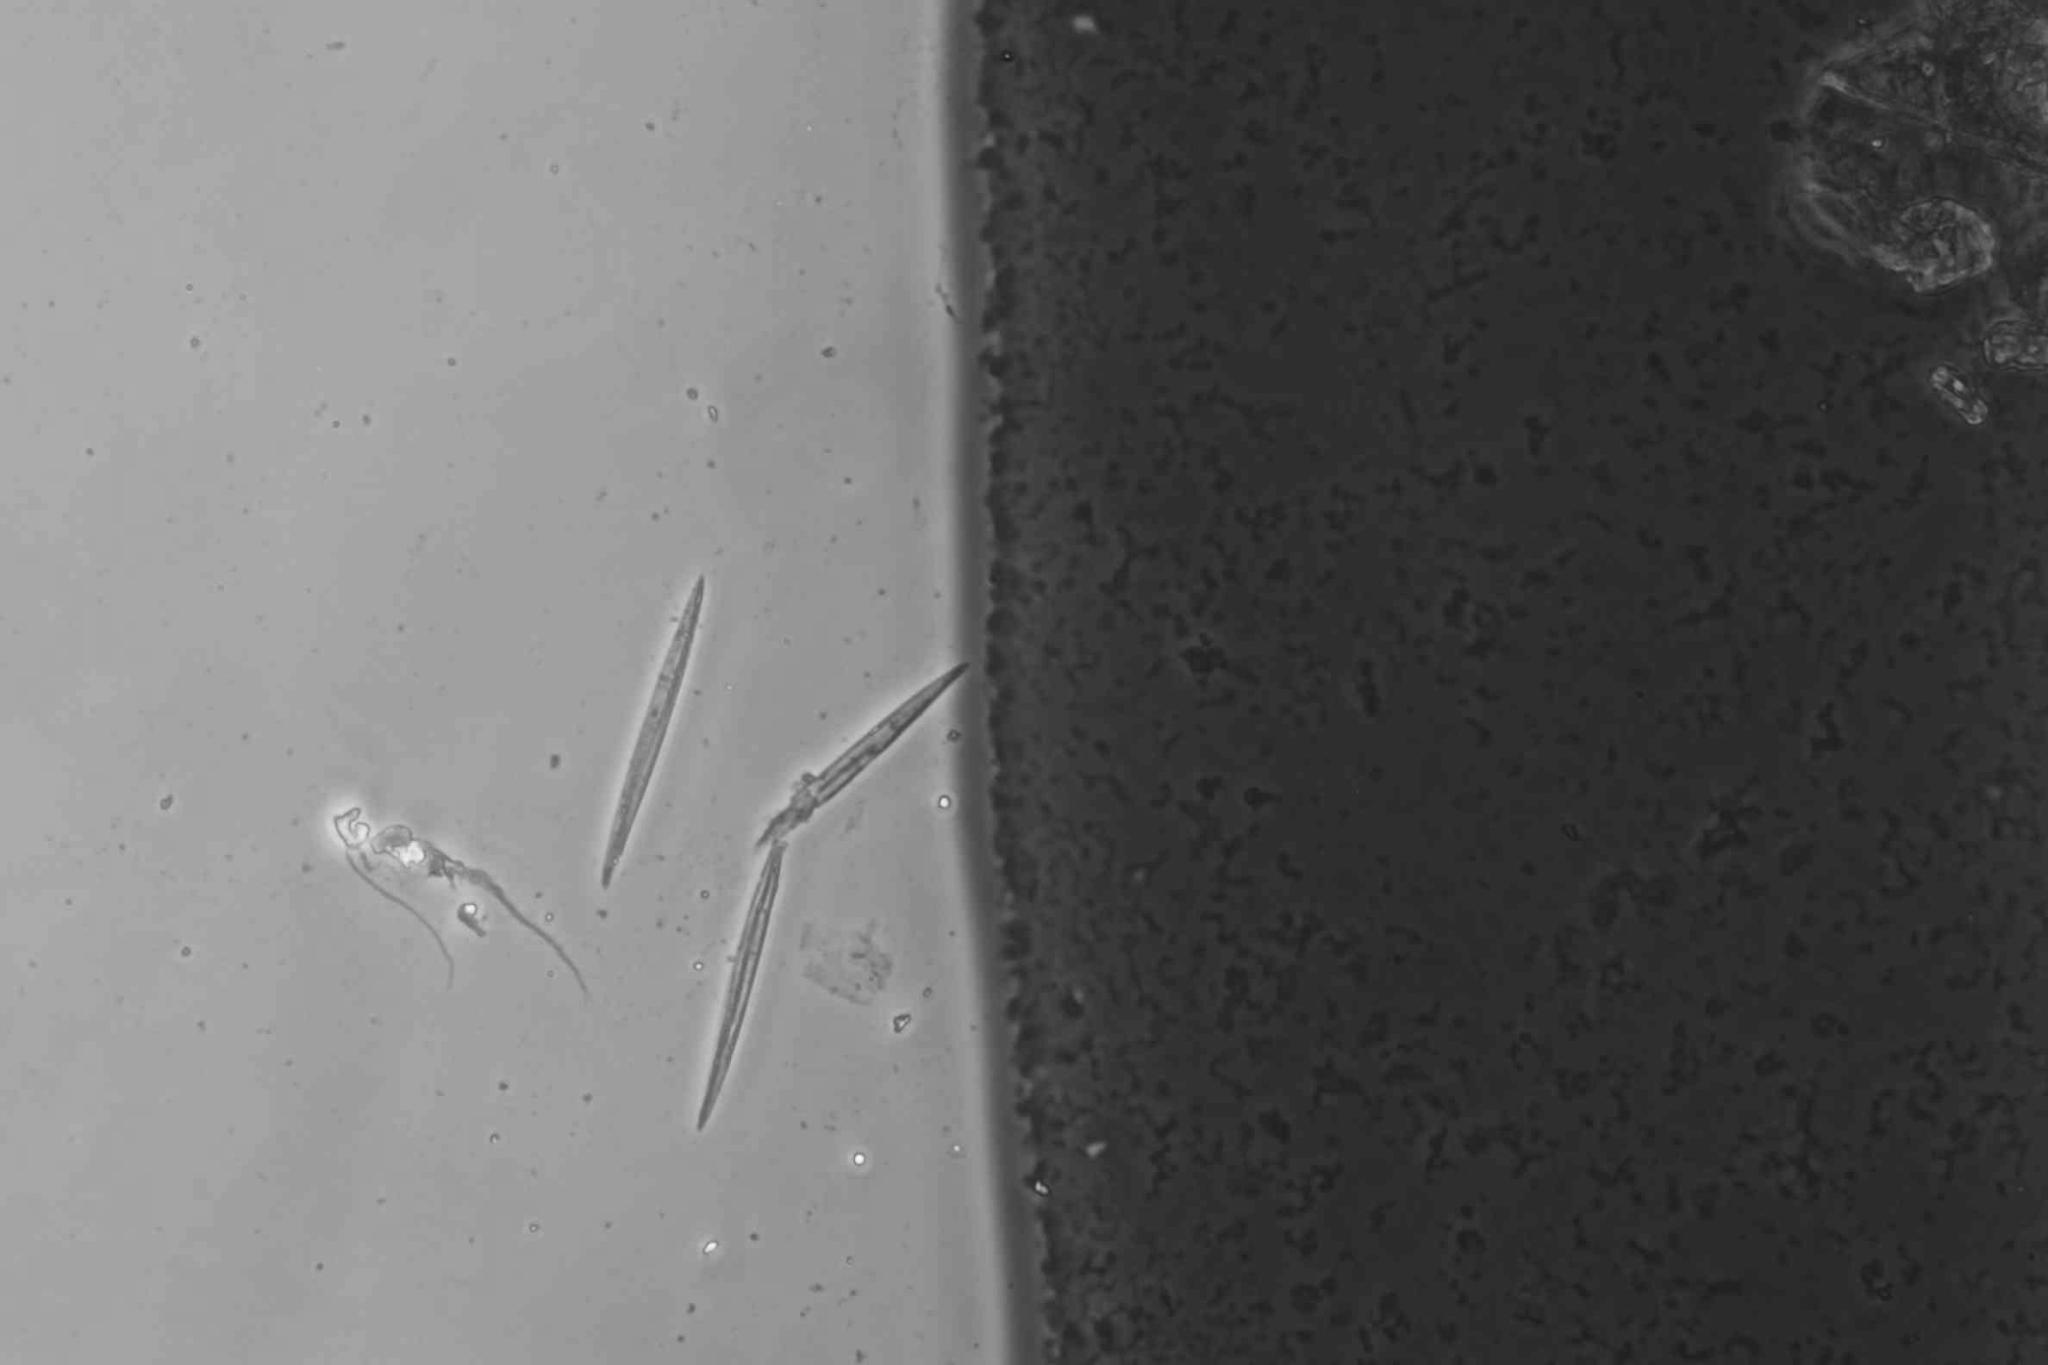pseudo_nitzschia: (600, 565, 702, 890), (703, 829, 786, 1133)
